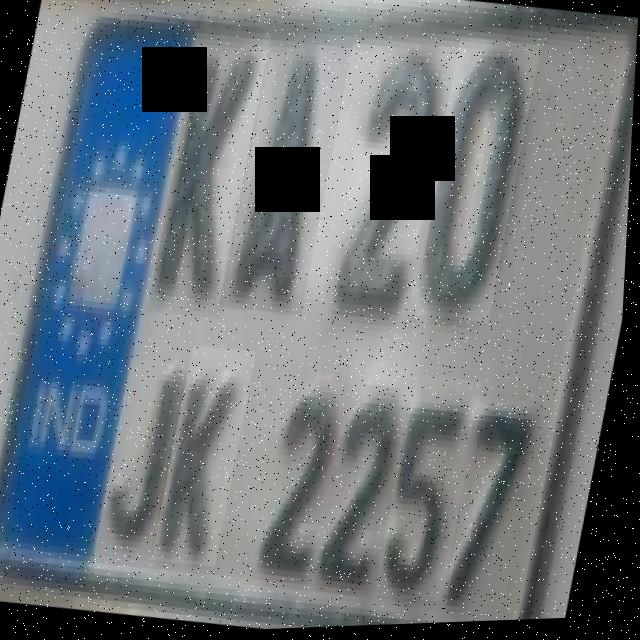0: (412, 50, 540, 322)
5: (381, 386, 486, 604)
A: (225, 45, 354, 316)
J: (107, 362, 188, 564)
K: (150, 49, 272, 318), (160, 355, 259, 569)
